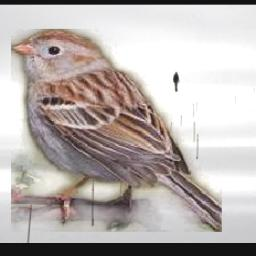Sparrow: (12, 29, 223, 232)
